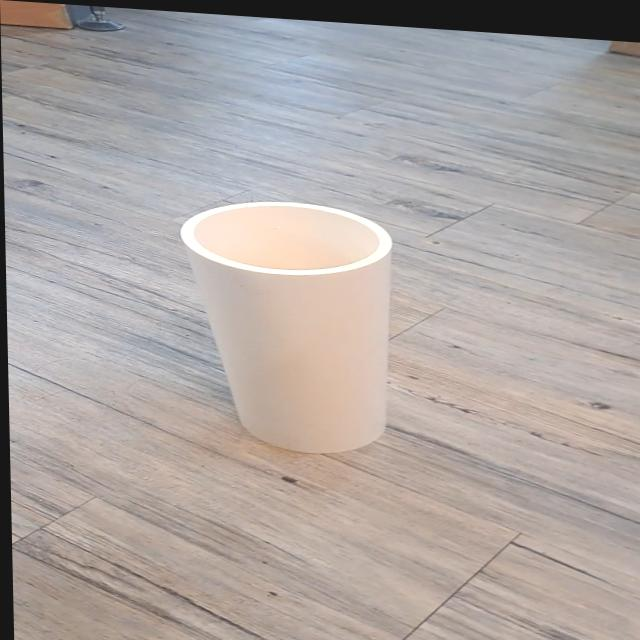CORAL: (149, 174, 455, 483)
